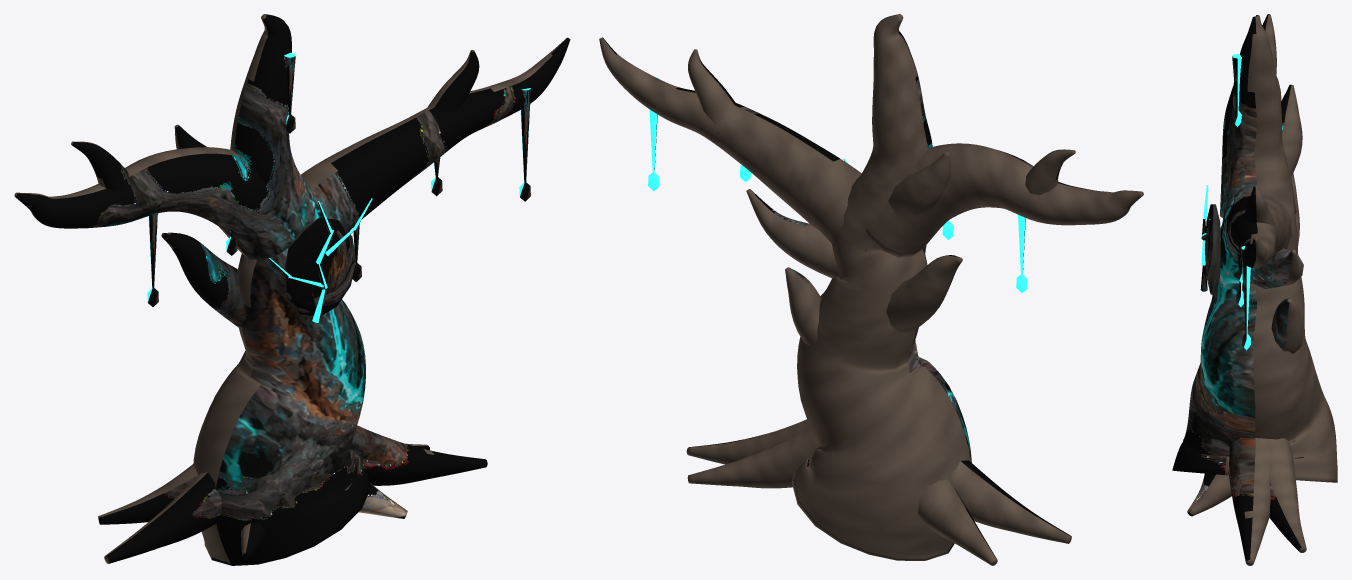
Rendered from ashroot-tree-r12.glb.
The picture shows the model from 3 angles, left to right: view 1: azimuth 30°, elevation 25°; view 2: azimuth 150°, elevation 25°; view 3: azimuth 270°, elevation 25°; orthographic projection. The views are drawn at different scales.
Visible parts, largest first — view 1: Ashroot R7 | fused twisting trunk, Ashroot R7 | long left bough, Ashroot R7 | sweeping right bough, Ashroot R7 | black heart hollow, Ashroot R7 | exposed root 6, Ashroot R7 | exposed root 1, Ashroot R7 | rear broken limb 1, Ashroot R7 | exposed root 2, Ashroot R7 | right fork, Ashroot R7 | left fork, Ashroot R7 | exposed root 4; view 2: Ashroot R7 | fused twisting trunk, Ashroot R7 | sweeping right bough, Ashroot R7 | long left bough, Ashroot R7 | exposed root 1, Ashroot R7 | exposed root 5, Ashroot R7 | rear broken limb 1, Ashroot R7 | exposed root 2, Ashroot R7 | rear broken limb 3, Ashroot R7 | rear broken limb 4, Ashroot R7 | exposed root 6, Ashroot R7 | rear broken limb 2, Ashroot R7 | right fork (+1 smaller); view 3: Ashroot R7 | fused twisting trunk, Ashroot R7 | exposed root 6, Ashroot R7 | sweeping right bough, Ashroot R7 | exposed root 5, Ashroot R7 | rear broken limb 3, Ashroot R7 | rear broken limb 2, Ashroot R7 | rear broken limb 4, Ashroot R7 | black heart hollow, Ashroot R7 | exposed root 4, Ashroot R7 | long left bough, Ashroot R7 | right fork, Ashroot R7 | hanging cyan sap 5 (+3 smaller).
Part boxes in pixels (<box>): Ashroot R7 | fused twisting trunk: <box>193,14,370,565</box>; Ashroot R7 | long left bough: <box>14,147,306,259</box>; Ashroot R7 | sweeping right bough: <box>301,37,570,231</box>; Ashroot R7 | black heart hollow: <box>283,217,355,315</box>; Ashroot R7 | exposed root 6: <box>351,425,487,485</box>; Ashroot R7 | exposed root 1: <box>104,472,221,563</box>; Ashroot R7 | rear broken limb 1: <box>161,232,247,328</box>; Ashroot R7 | exposed root 2: <box>98,463,197,524</box>; Ashroot R7 | right fork: <box>427,50,479,111</box>; Ashroot R7 | left fork: <box>71,141,129,191</box>; Ashroot R7 | exposed root 4: <box>359,482,407,518</box>; Ashroot R7 | fused twisting trunk: <box>791,14,971,560</box>; Ashroot R7 | sweeping right bough: <box>599,37,867,251</box>; Ashroot R7 | long left bough: <box>864,143,1143,257</box>; Ashroot R7 | exposed root 1: <box>950,460,1071,543</box>; Ashroot R7 | exposed root 5: <box>687,427,818,488</box>; Ashroot R7 | rear broken limb 1: <box>886,255,962,332</box>; Ashroot R7 | exposed root 2: <box>918,479,997,565</box>; Ashroot R7 | rear broken limb 3: <box>746,189,838,278</box>; Ashroot R7 | rear broken limb 4: <box>888,151,950,220</box>; Ashroot R7 | exposed root 6: <box>686,419,810,464</box>; Ashroot R7 | rear broken limb 2: <box>785,267,821,345</box>; Ashroot R7 | right fork: <box>688,49,735,133</box>; Ashroot R7 | fused twisting trunk: <box>1172,16,1337,482</box>; Ashroot R7 | exposed root 6: <box>1228,437,1270,565</box>; Ashroot R7 | sweeping right bough: <box>1220,195,1292,268</box>; Ashroot R7 | exposed root 5: <box>1269,438,1306,552</box>; Ashroot R7 | rear broken limb 3: <box>1250,248,1303,288</box>; Ashroot R7 | rear broken limb 2: <box>1271,298,1303,353</box>; Ashroot R7 | rear broken limb 4: <box>1281,84,1302,175</box>; Ashroot R7 | black heart hollow: <box>1204,204,1220,294</box>; Ashroot R7 | exposed root 4: <box>1187,473,1231,516</box>; Ashroot R7 | long left bough: <box>1219,15,1296,217</box>; Ashroot R7 | right fork: <box>1243,185,1276,232</box>; Ashroot R7 | hanging cyan sap 5: <box>1241,246,1250,333</box>.
Bounding box in the file's own units: 5.12 × 4.72 × 1.47.
4 materials, 1 textured.
